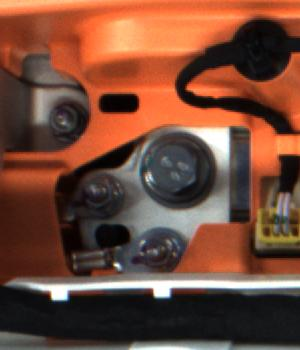nut_b: (140, 131, 216, 205)
